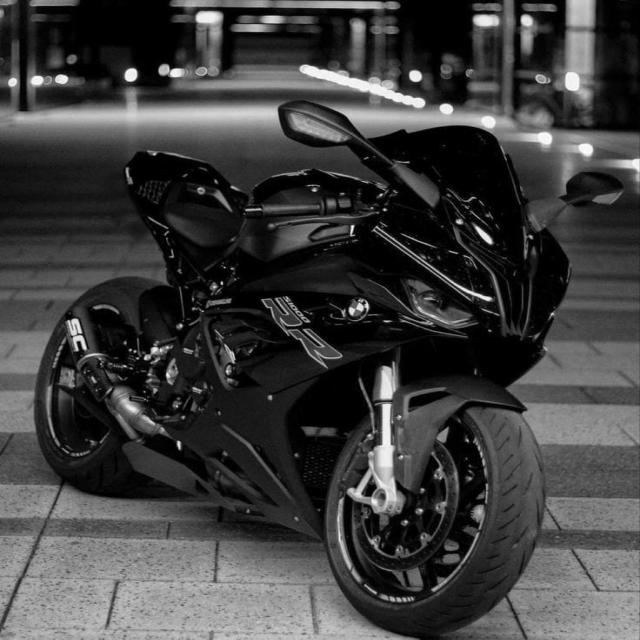bike: (45, 87, 595, 614)
